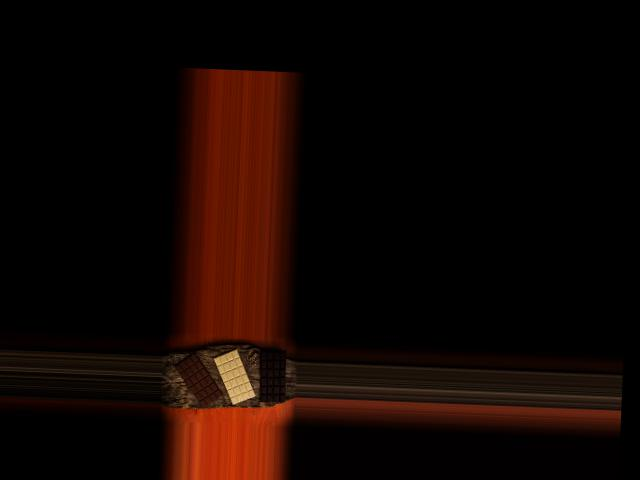chocolate: (258, 349, 288, 403)
